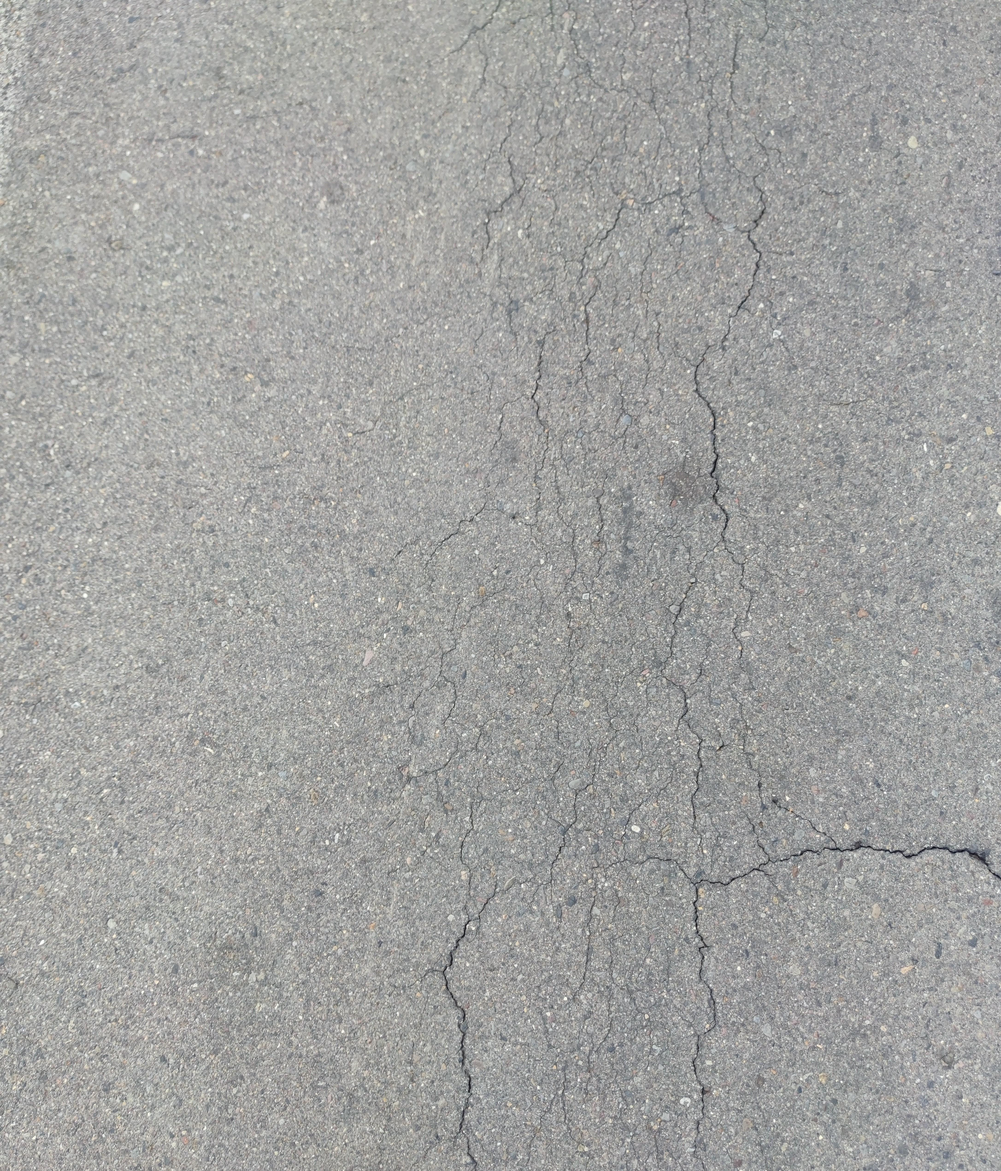GRIETA: (785, 842, 1001, 881)
PIEL DE COCODRILO: (402, 0, 859, 1171)
